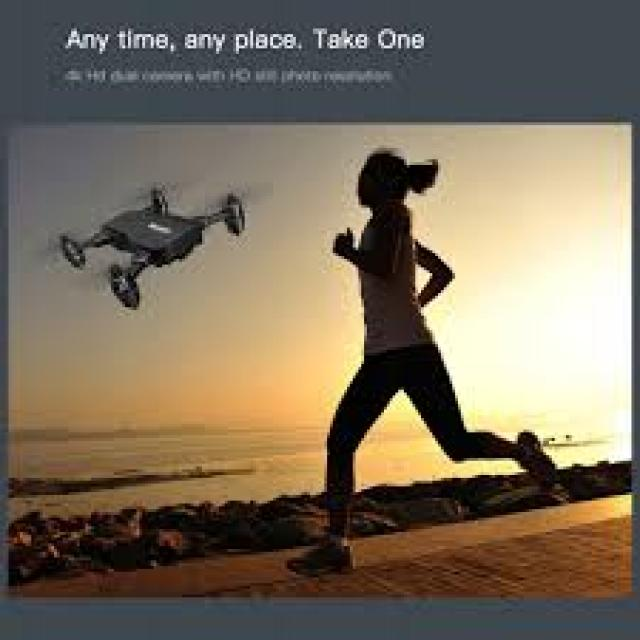drone: (43, 172, 266, 308)
